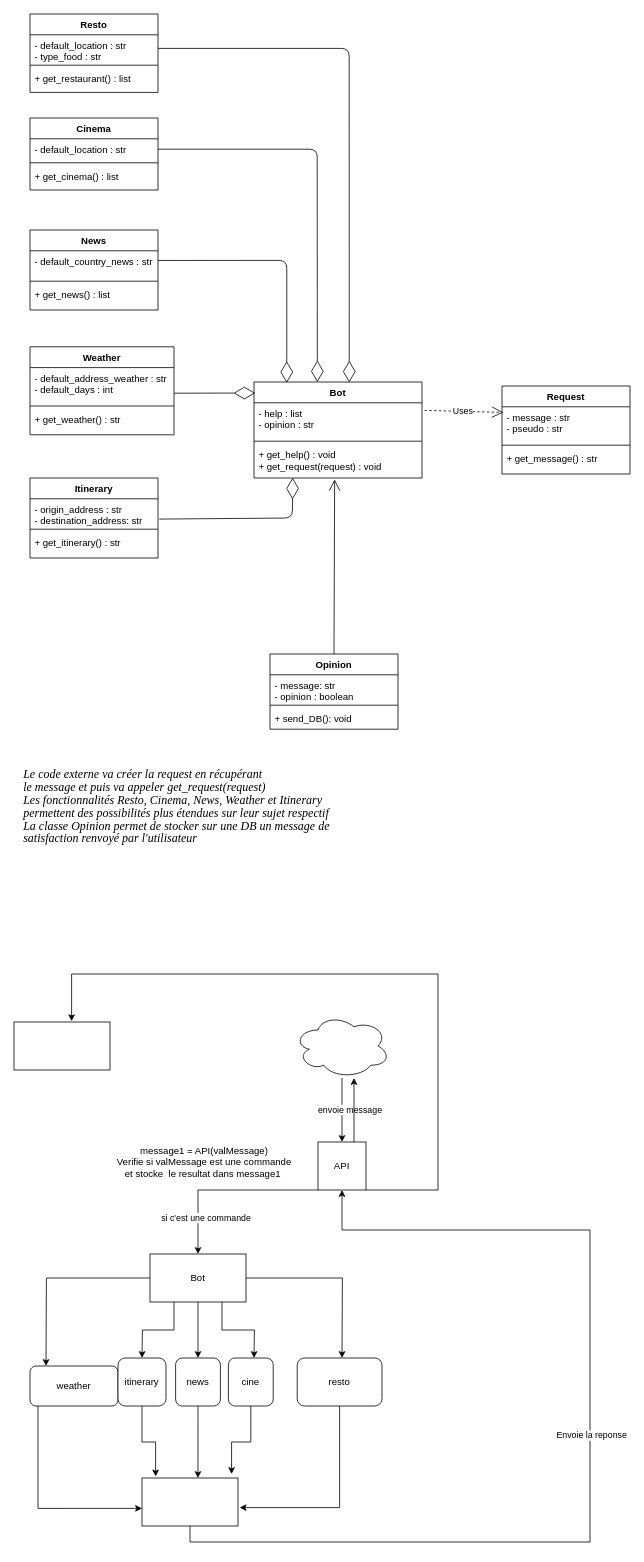
Some shapes in this 644 by 1562 pixel diagram are drawn without their labels. The shapes that lost their labels are listed below. From the top down, each one's centre as x and y in pixels, then its label:
At (x=61, y=1045): "Interface graphique".
At (x=341, y=1045): "Noyau".
At (x=189, y=1501): "Reponse".
